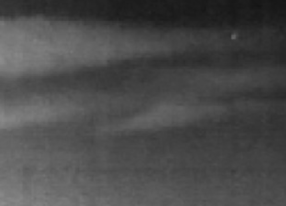Target: (231, 36, 235, 39)
